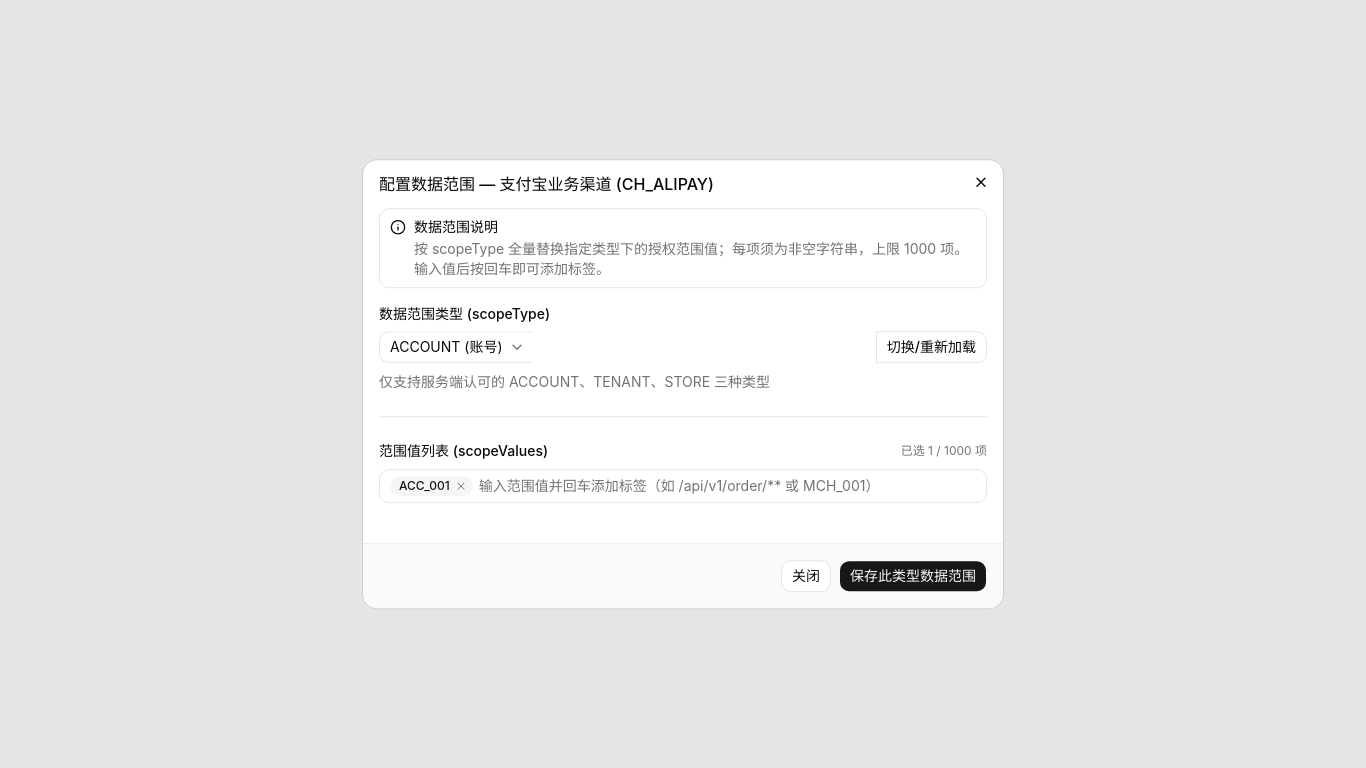
Scenario: DataScopeModal (渠道凭证 数据范围配置弹窗) › 提交失败路径 - 后端返回 INVALID_ARGUMENT 时在 Alert 中展示错误信息
The image size is (1366, 768).
Expected: the text "ACC_001" is shown, [399, 478, 450, 494]
Click the button "保存此类型数据范围". click: [913, 576]
box: [839, 560, 987, 592]
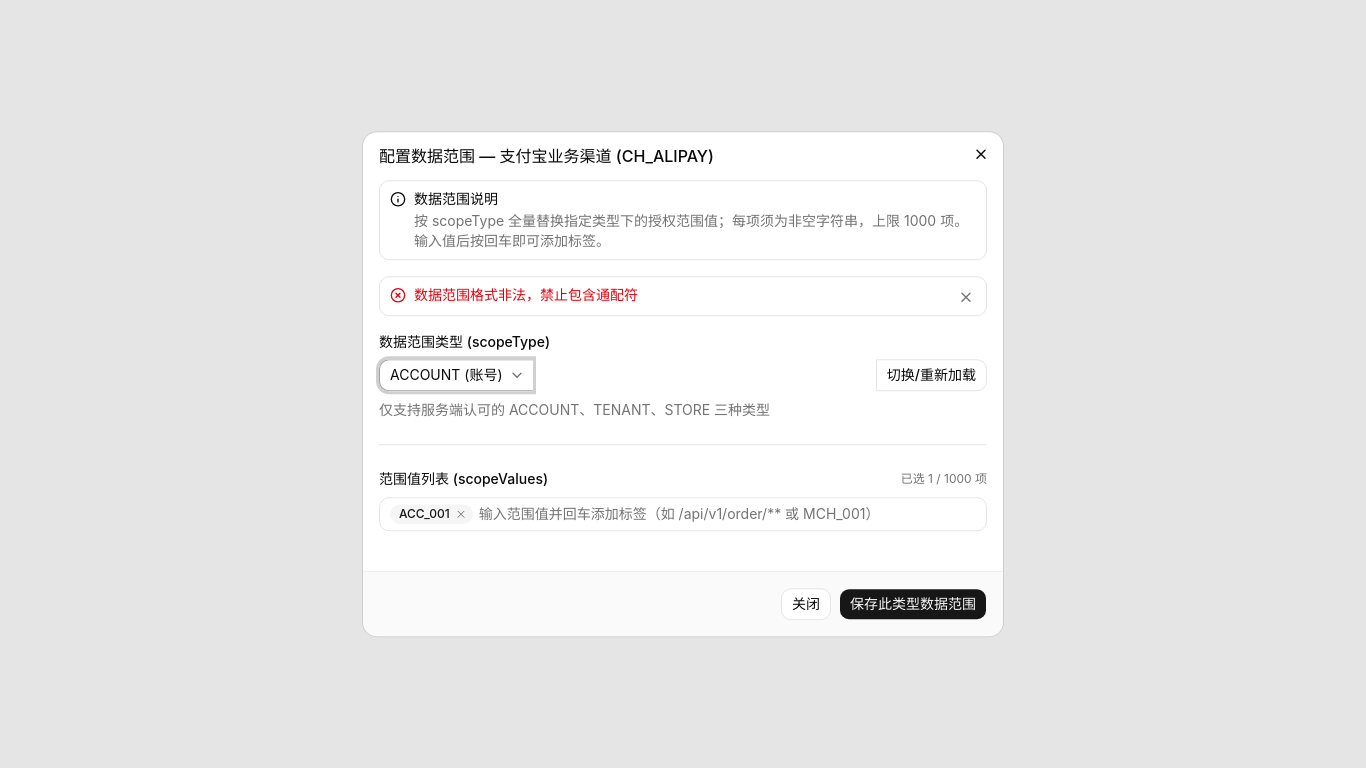
Expected: the button "保存此类型数据范围" is enabled, [839, 588, 987, 620]
Expected: the text "数据范围格式非法，禁止包含通配符" is shown, [414, 286, 638, 303]
